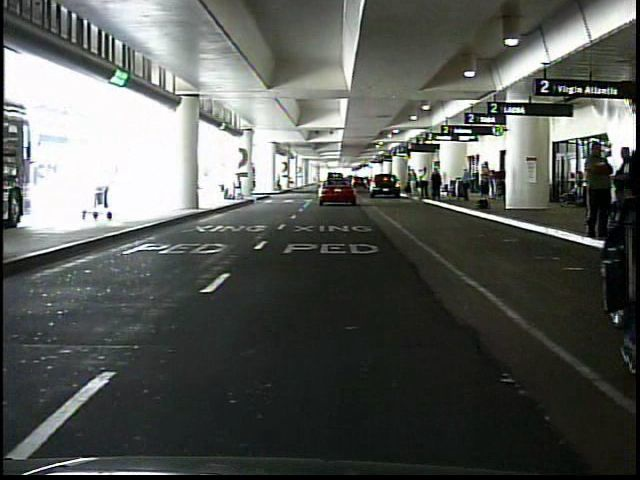person: (580, 137, 614, 254), (478, 161, 492, 208), (459, 166, 473, 203), (431, 167, 444, 202), (419, 165, 431, 200), (408, 168, 419, 198), (230, 173, 242, 200), (275, 172, 284, 189)
